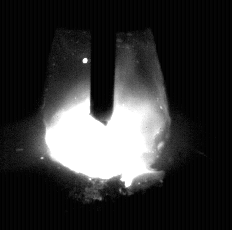arame: (91, 0, 116, 126)
poca: (45, 0, 170, 230)
